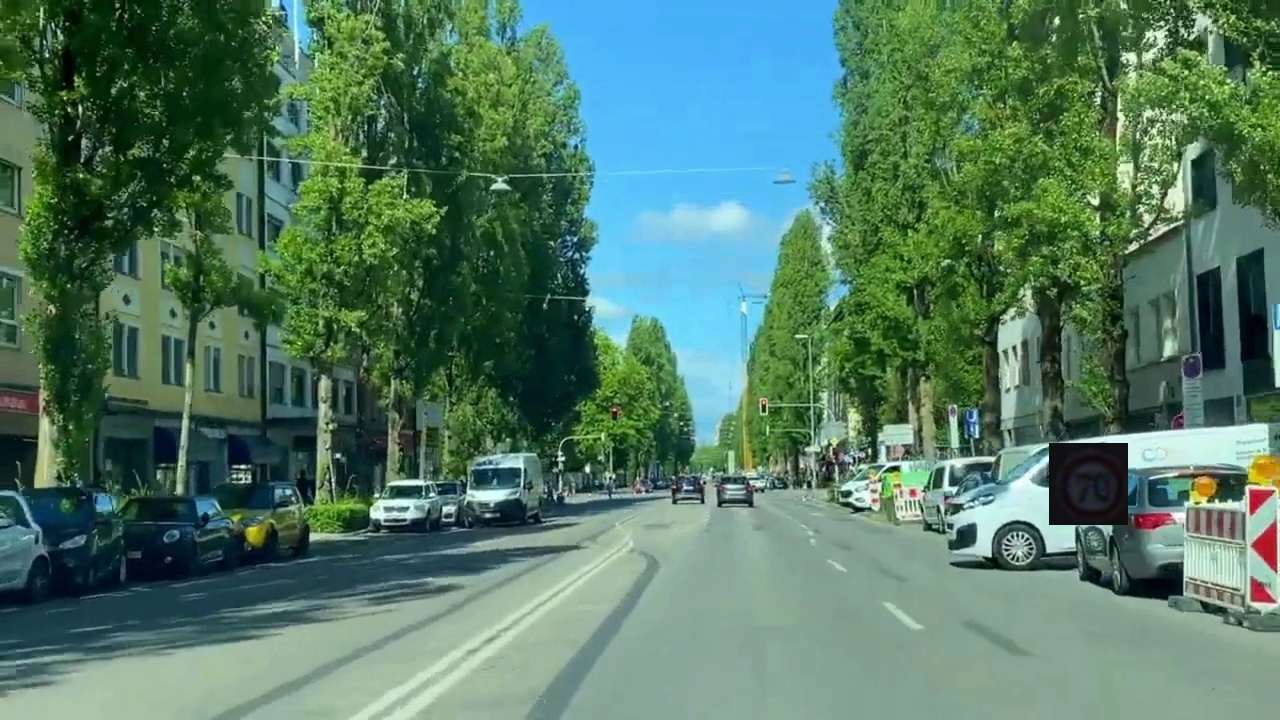Speed 70: (1049, 443, 1128, 525)
